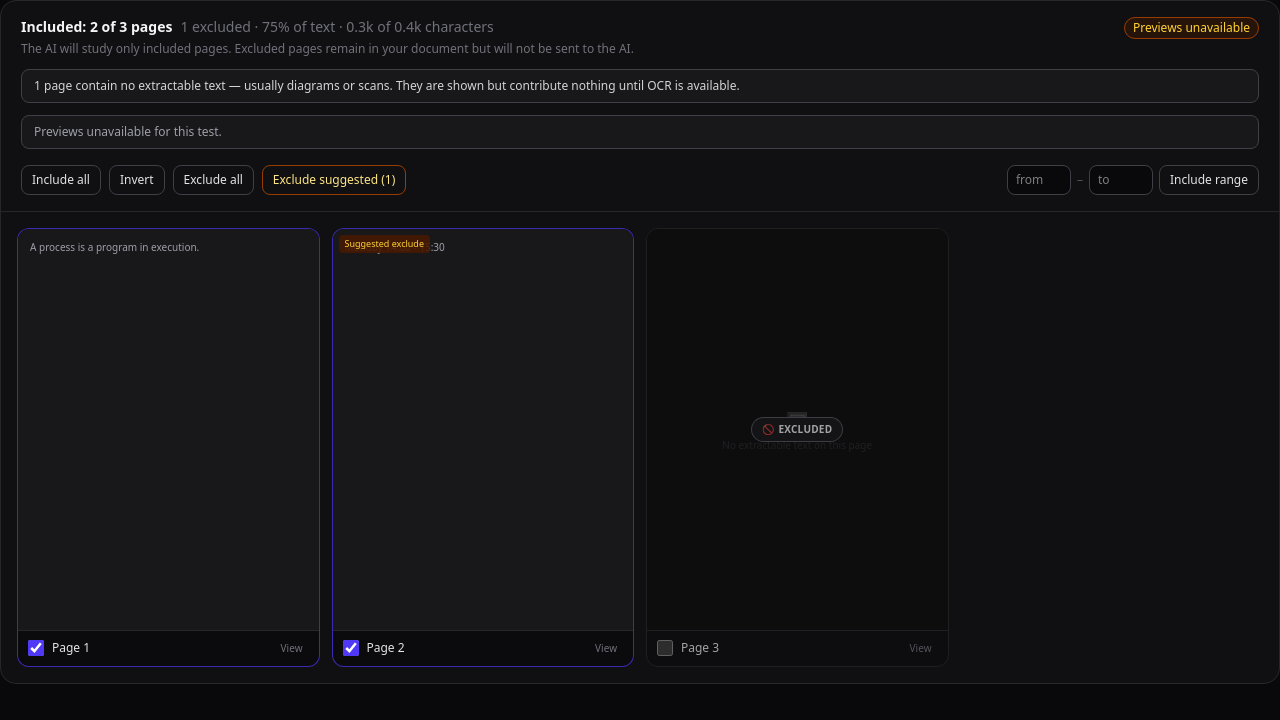
Test: PageSelector interaction › rolls back the optimistic update when the API fails
This screenshot has width=1280, height=720.
Click the checkbox named "Page 1, included": x=36, y=648 [28,640,44,656]
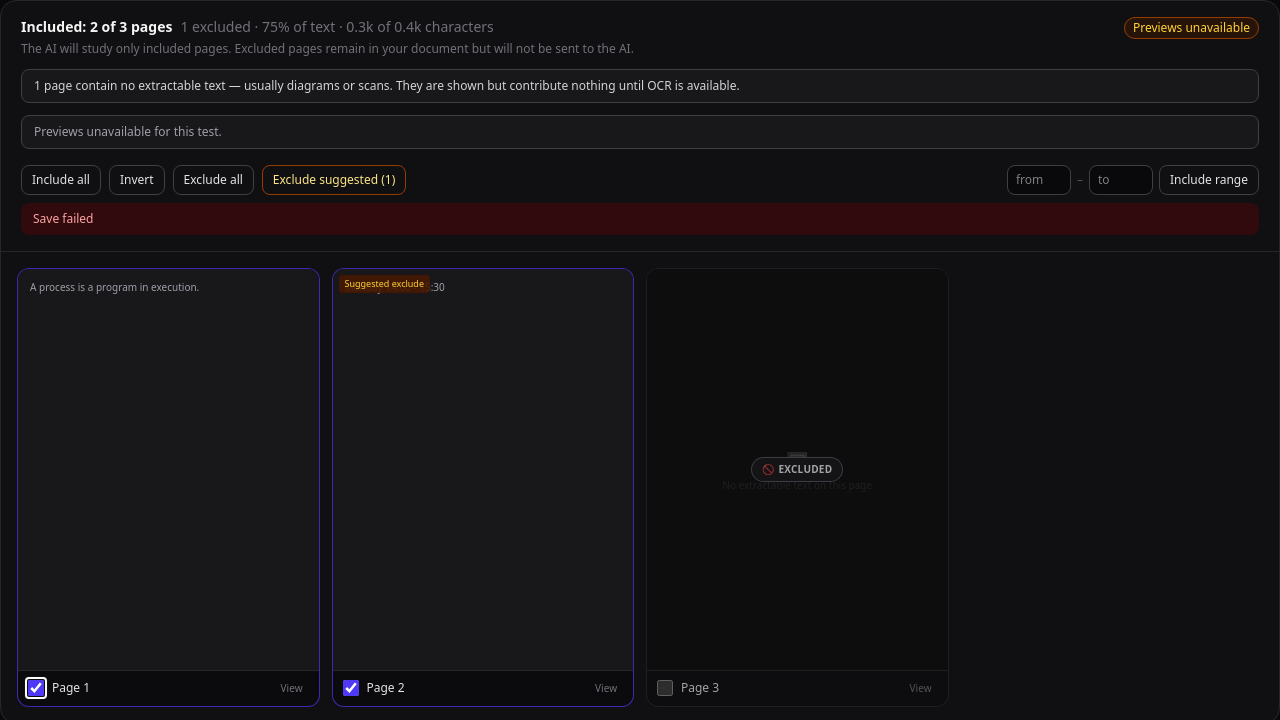
Check: the checkbox named "Page 1, included" is checked, box [28,680,44,696]
Check: the message reads "Save failed", box [33,210,94,227]
